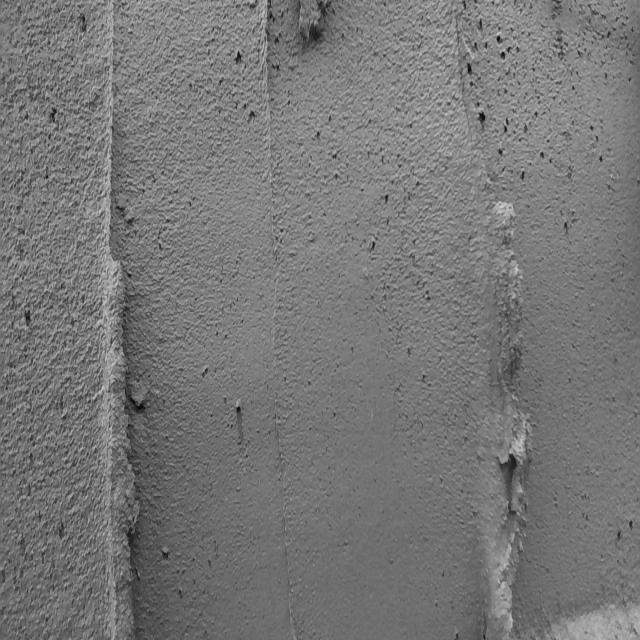trowels marks: (94, 2, 143, 640), (488, 184, 546, 640), (261, 7, 281, 186)
